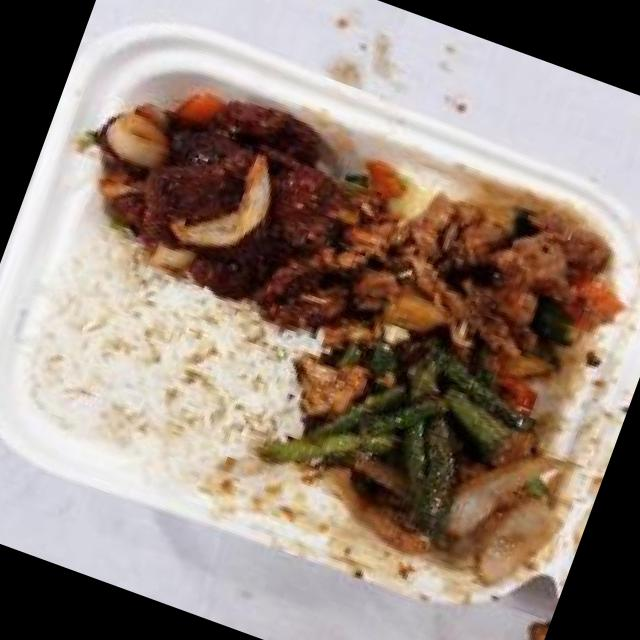Beijing Beef: (53, 44, 396, 338)
Kung Pao Chicken: (304, 129, 640, 421)
String Bean Chicken Breast: (271, 314, 604, 602)
White Steamed Rice: (4, 237, 322, 512)
